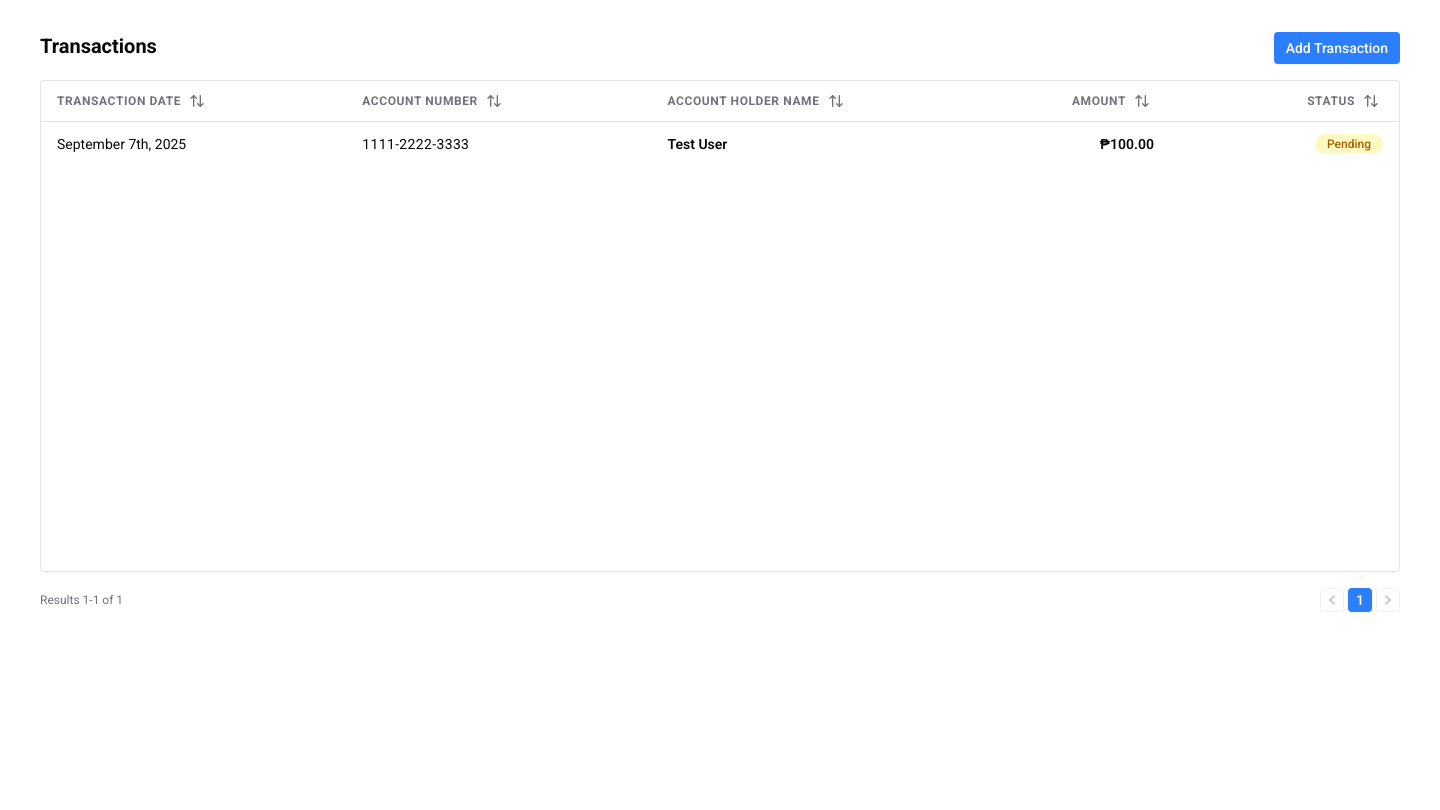
Transactions page tests › should open a modal when Add Transaction button is clicked
Click the button "Add Transaction".
click(1337, 48)  # box [1274,32,1400,64]
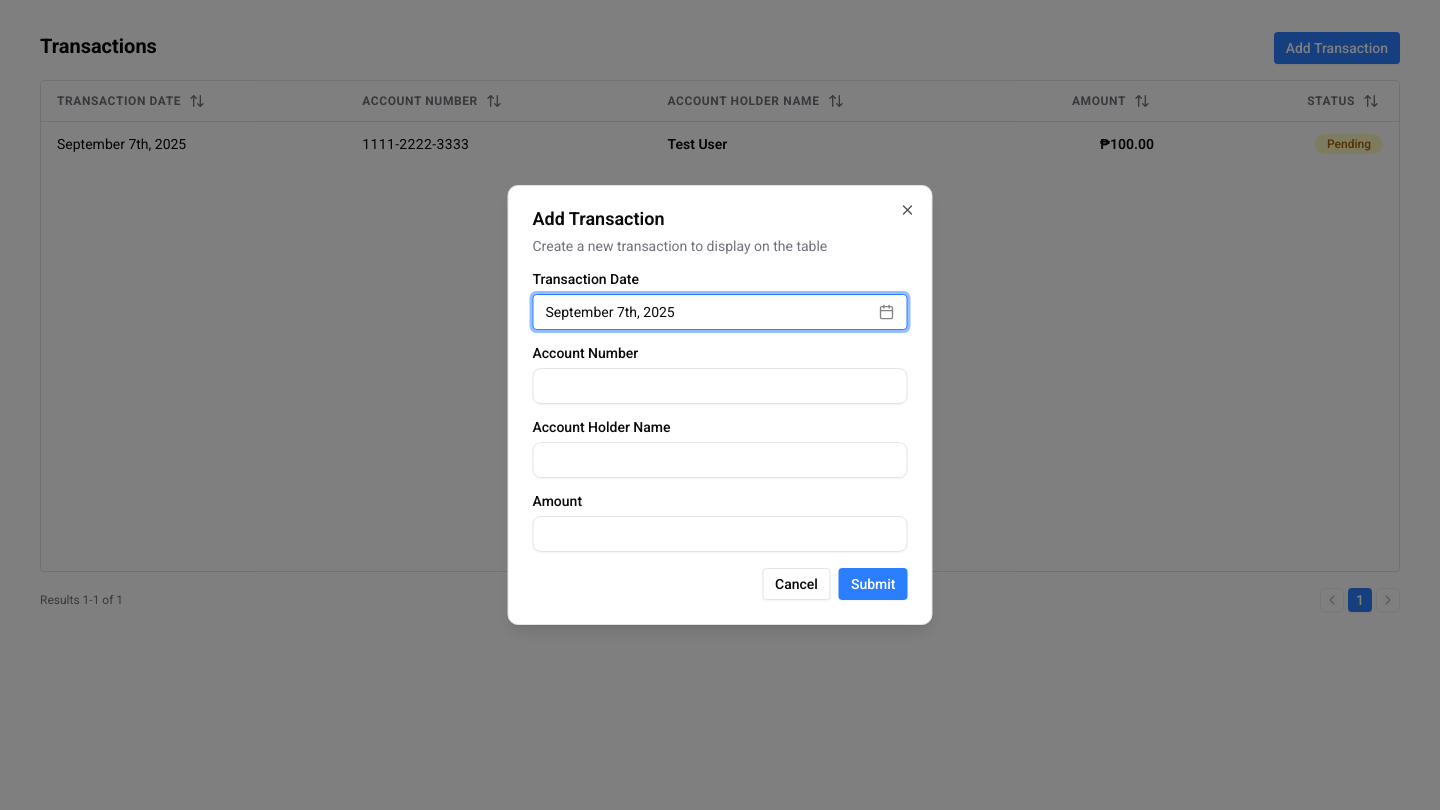
Result: the text "Create a new transaction to display on the table" is shown at [532,238,827,254]
